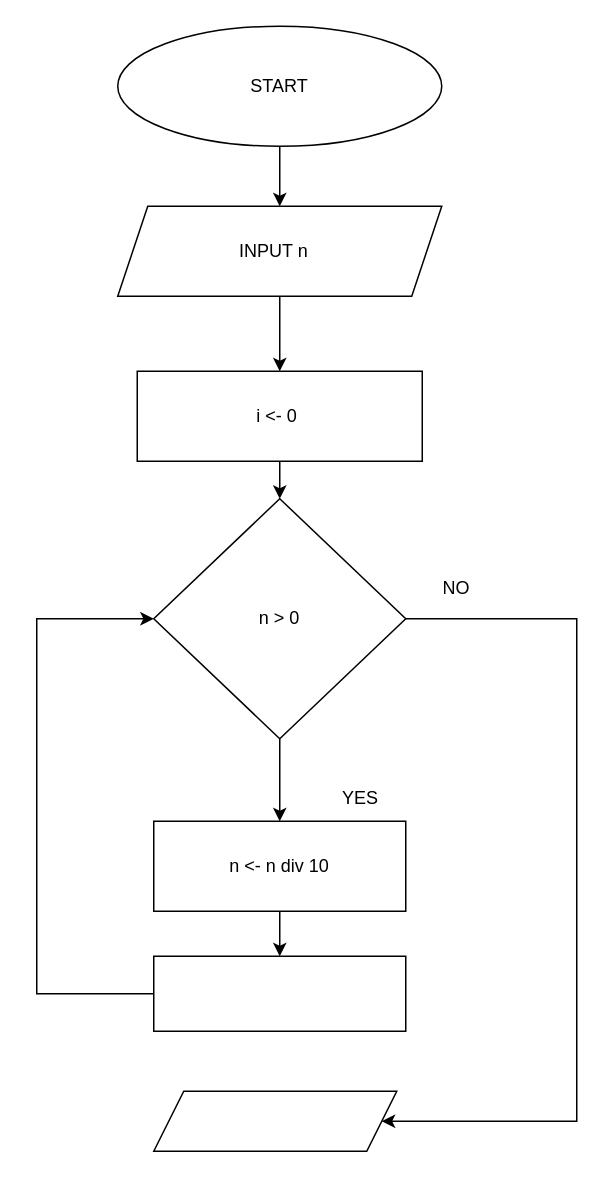
This 615x1178 diagram has some shape labels left out. Each missing label, with the centre of its shape:
"i <- i+1" goes at (279,993).
"OUT PUT i" goes at (274,1120).
